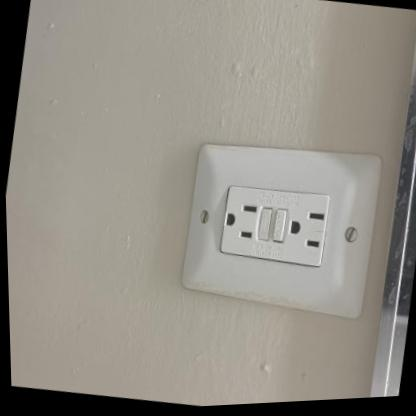OUTLET: (174, 126, 388, 322)
